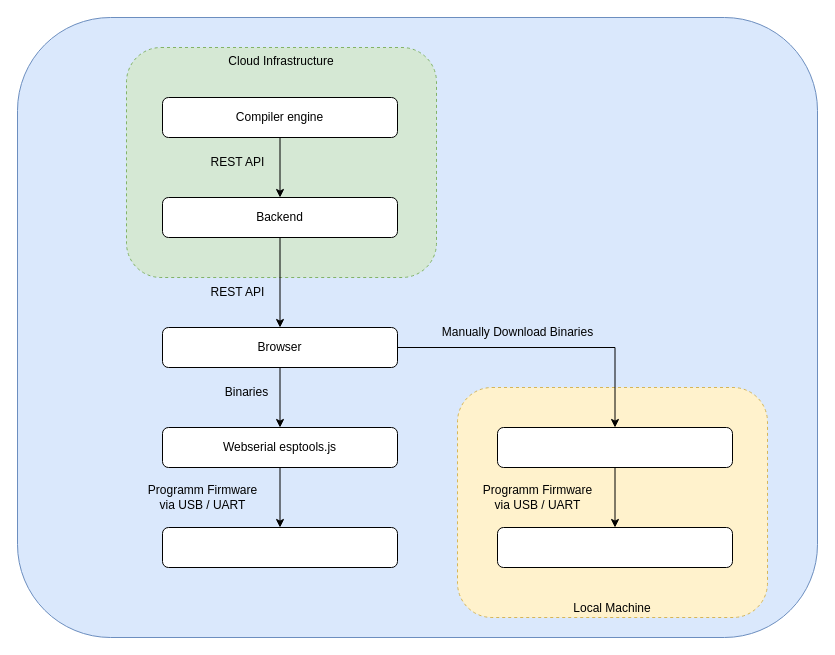
Image size: 835x655. Some labels were removed from this diagram. Here are the shapes that lost their labels. From the top down, the box of each, then its label:
(496, 426, 732, 468): Heltec Utilities
(162, 526, 398, 568): ESP32 Board
(496, 526, 732, 568): Cubecell Board
